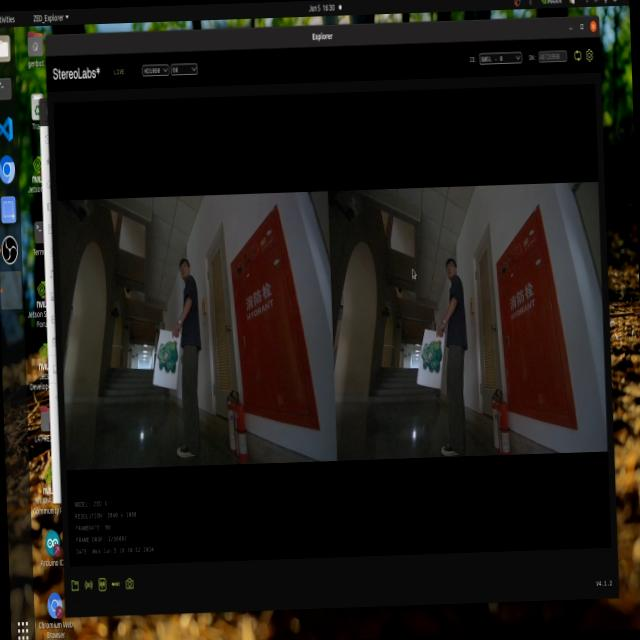green: (413, 332, 448, 376), (156, 337, 182, 377)
